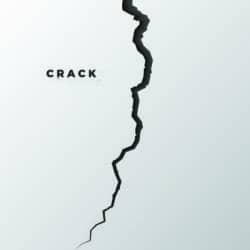crack: (75, 0, 153, 249)
